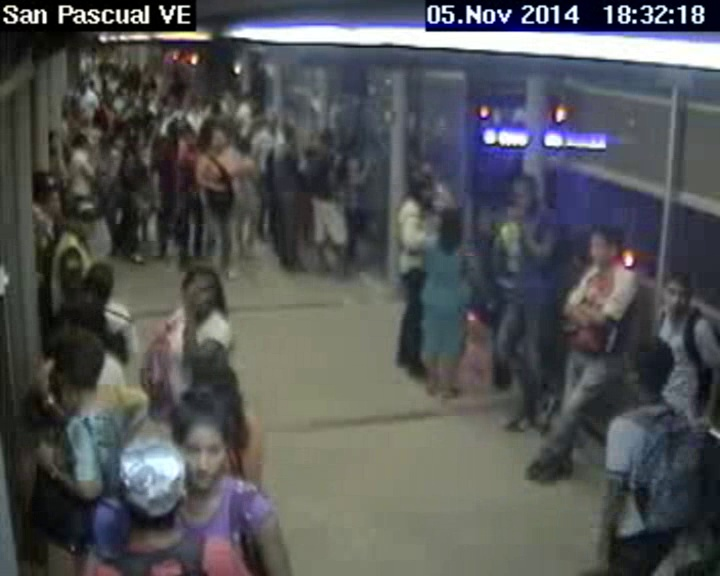person: (110, 430, 188, 530), (33, 327, 106, 420), (167, 391, 232, 491), (617, 335, 675, 404), (586, 219, 633, 272), (182, 262, 225, 317), (654, 268, 699, 317), (65, 193, 104, 239), (430, 195, 461, 250), (32, 175, 66, 220), (508, 174, 545, 215), (81, 258, 116, 296), (401, 165, 435, 201), (200, 126, 225, 152), (234, 130, 254, 159), (341, 132, 363, 157), (175, 121, 198, 144), (107, 115, 128, 136), (70, 131, 89, 154), (318, 129, 335, 154), (280, 130, 294, 153), (79, 75, 91, 93)
